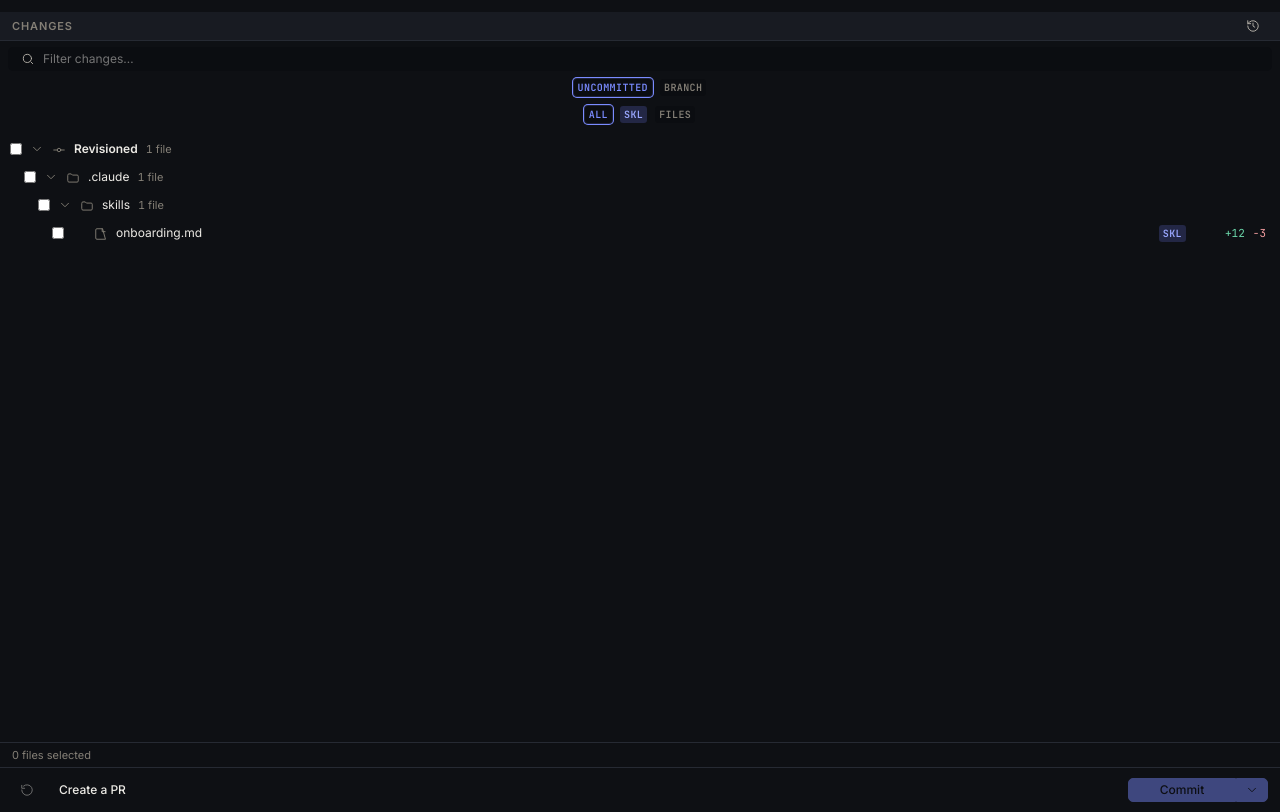
Test: modes (CHG-FR-02..FR-07) › lists uncommitted changes by default and branch changes after the toggle
What coordinates should you click on to do the following:
click the radio button labelled "Branch"
I would click on:
 (683, 88)
Its box is [658,77,708,98].
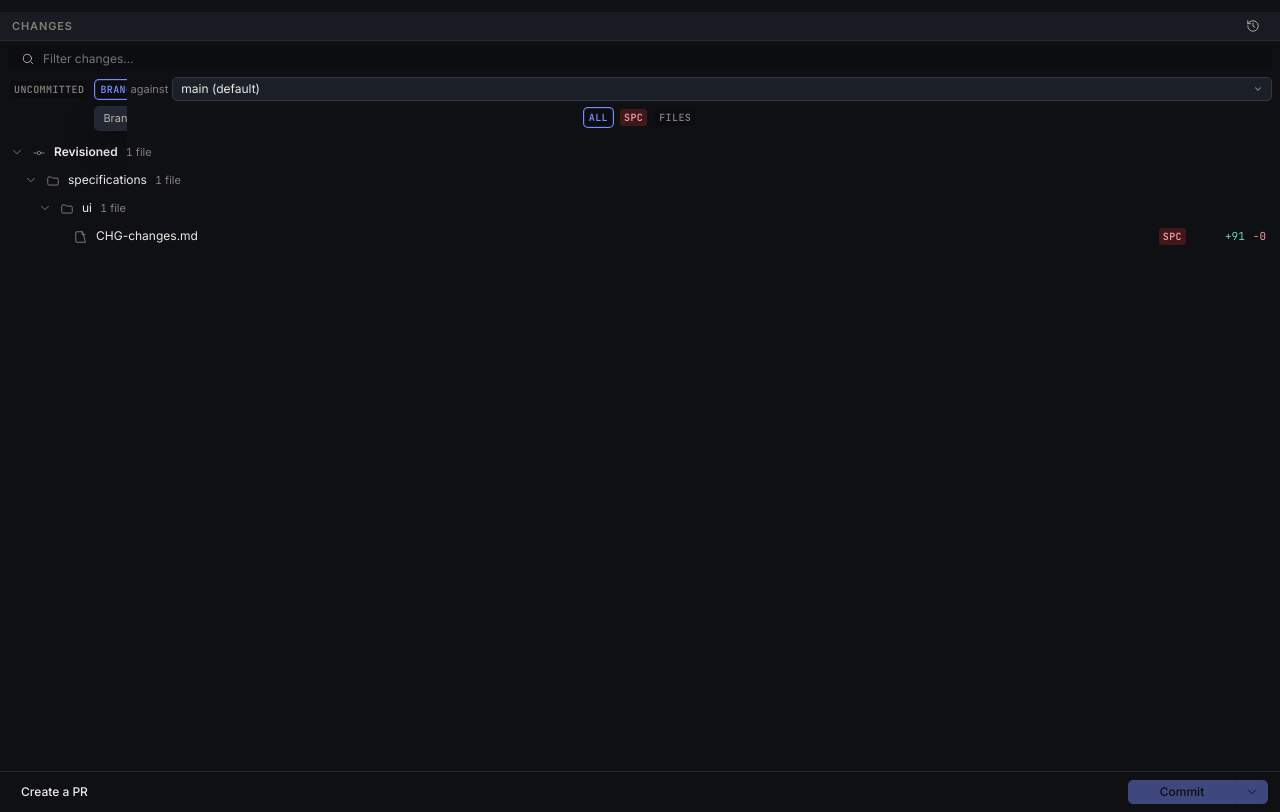
Check: the radio button labelled "Branch" is checked, box [94,78,127,100]
Check: the radio button labelled "Uncommitted" is not checked, box [8,78,90,100]
